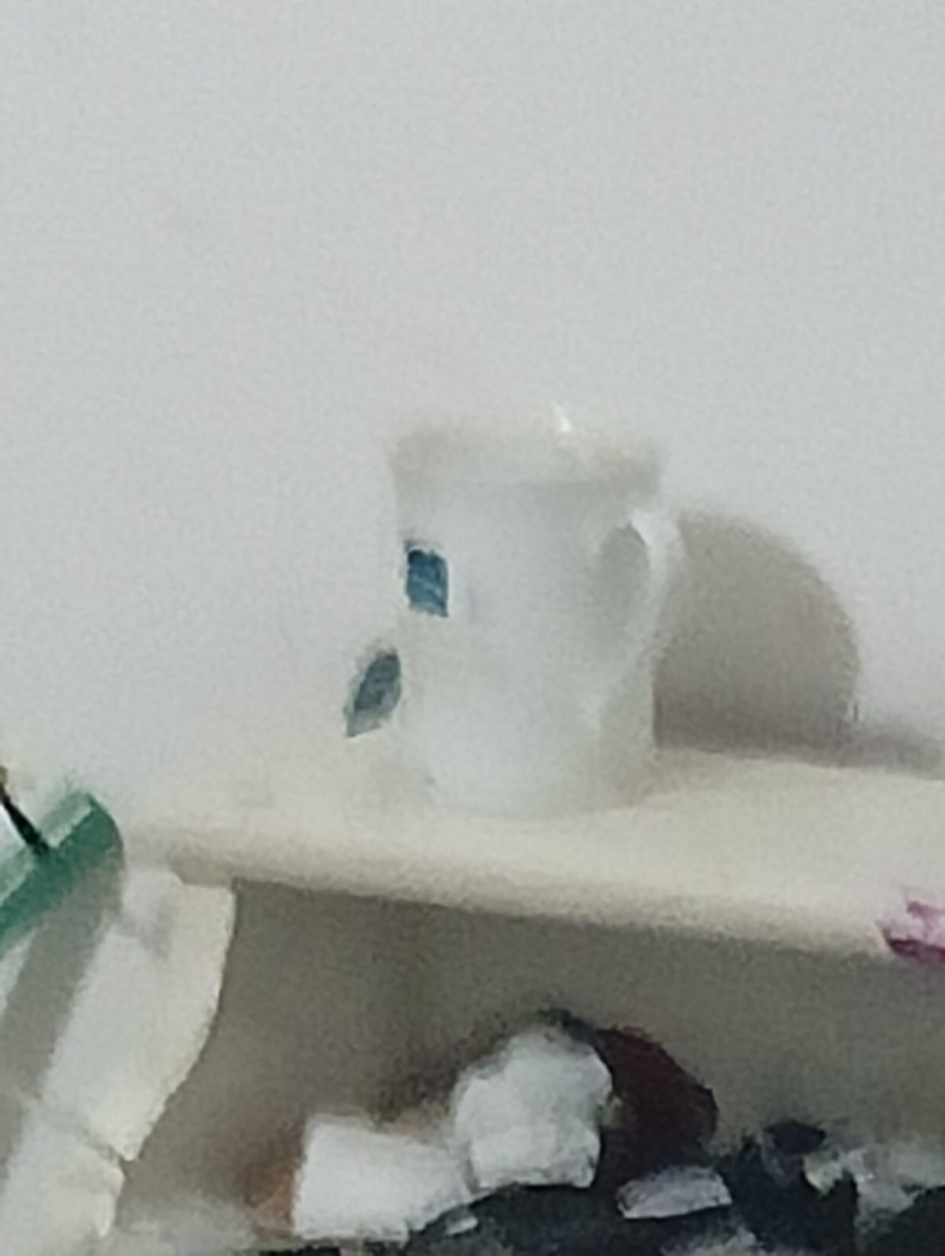cup: (389, 419, 682, 817)
